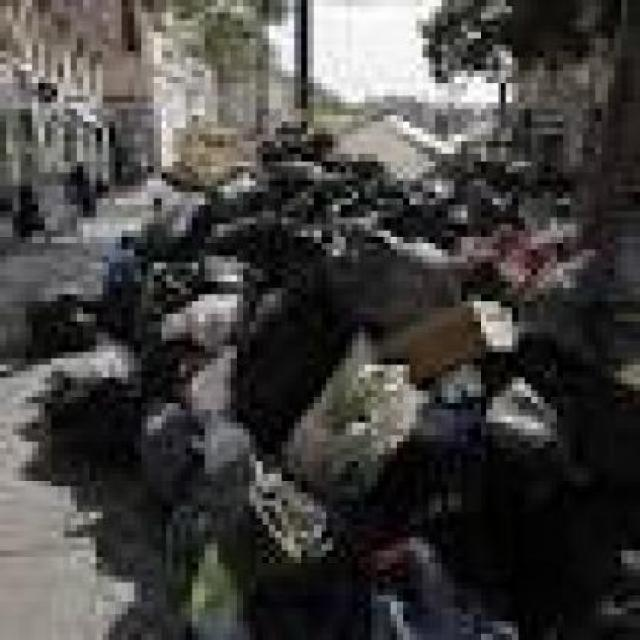garbage: (77, 160, 634, 634)
